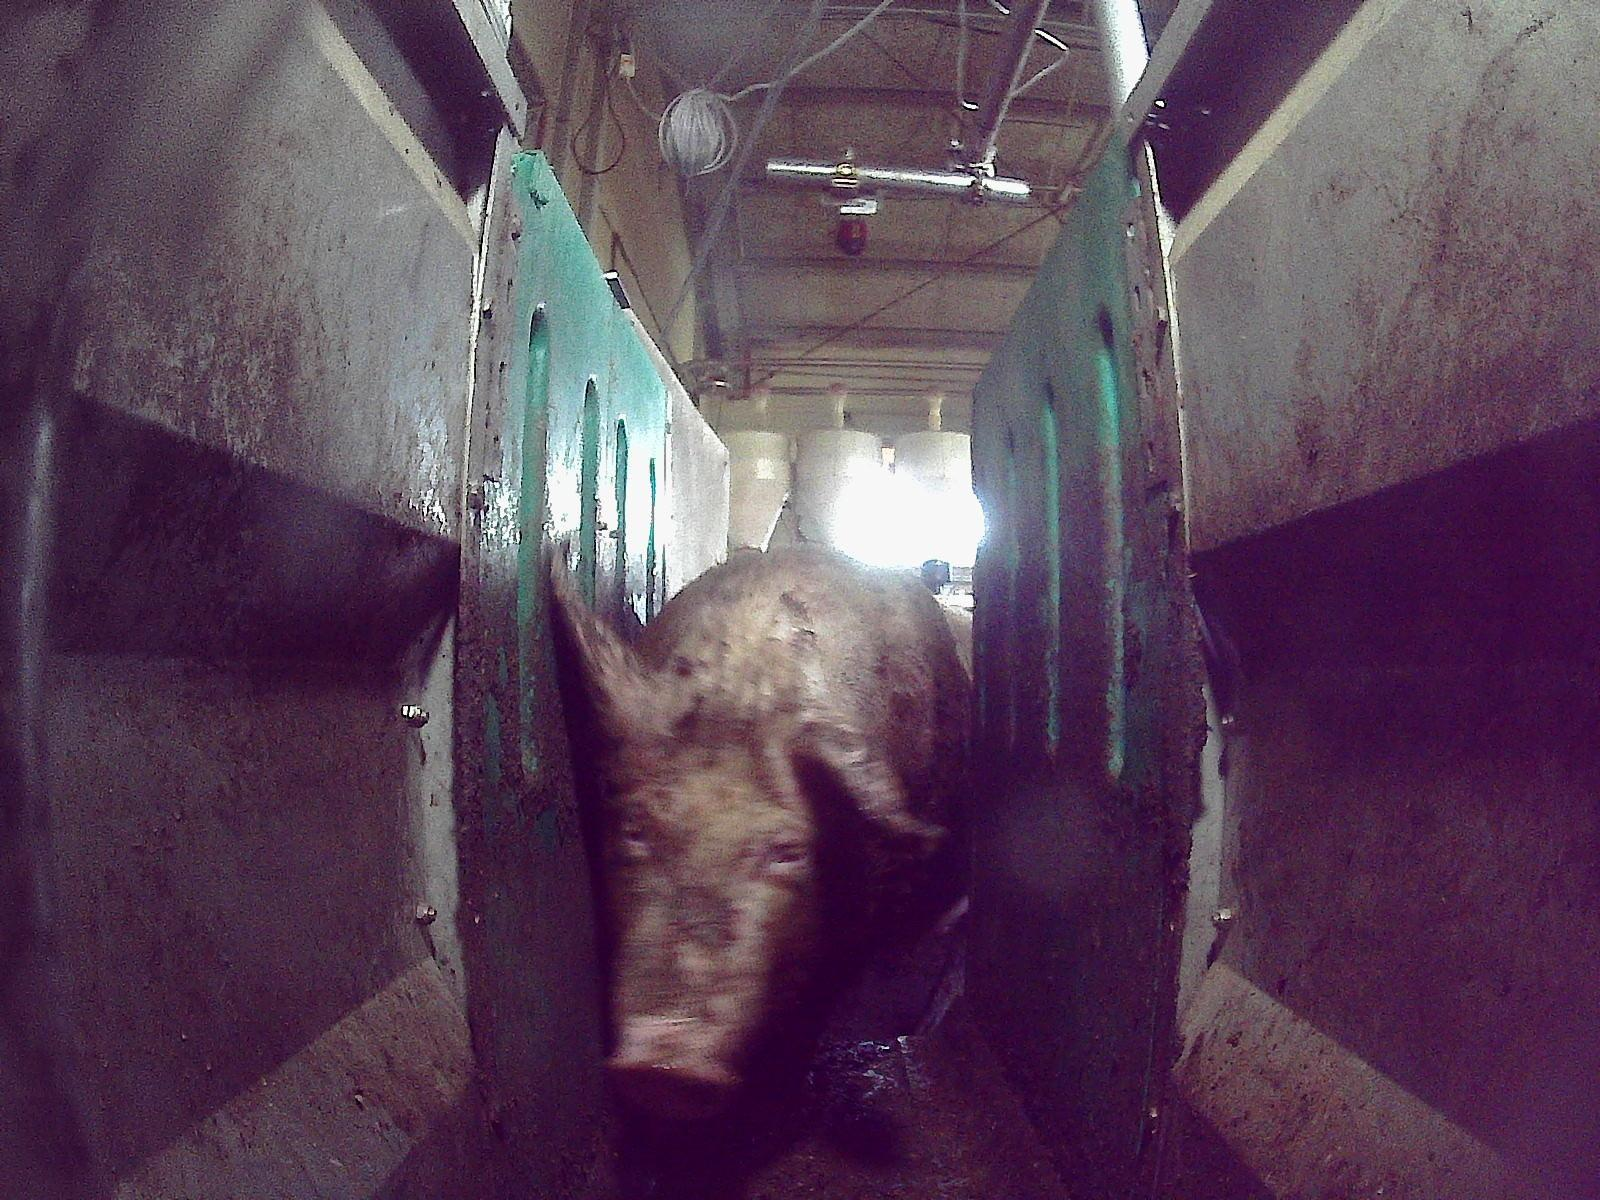Face: (584, 683, 863, 1122)
